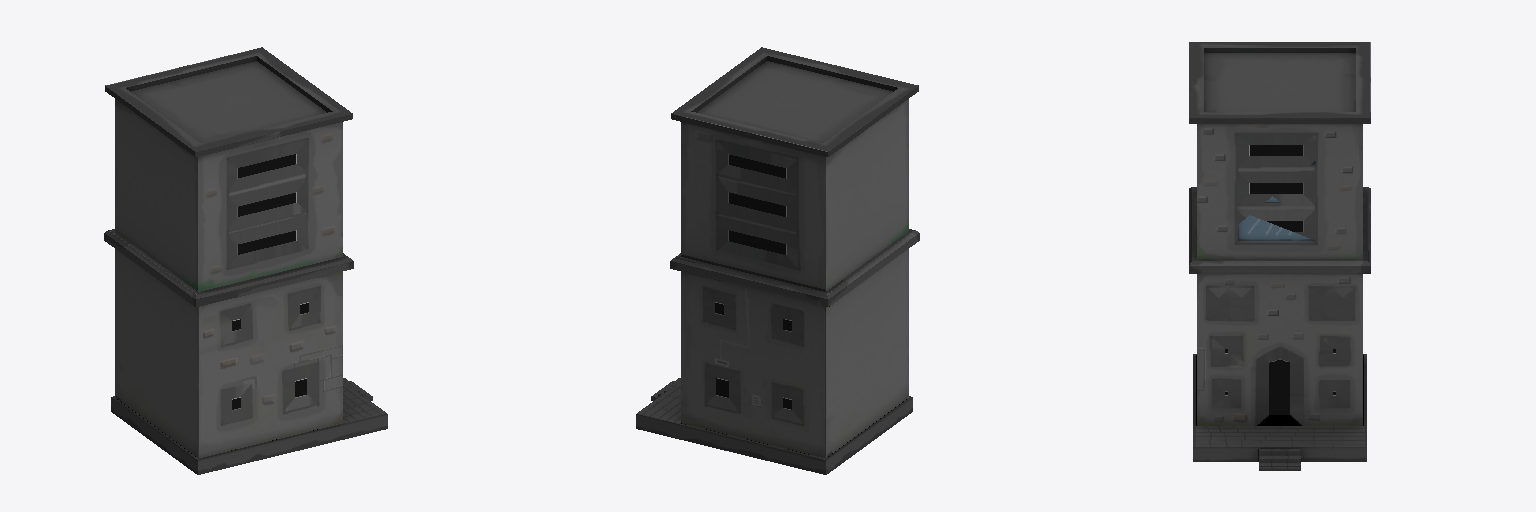
The picture shows the model from 3 angles: view 1: azimuth 30°, elevation 25°; view 2: azimuth 150°, elevation 25°; view 3: azimuth 270°, elevation 25°; orthographic projection.
Visible parts, largest first — view 1: Cube.003_Cube.006; view 2: Cube.003_Cube.006; view 3: Cube.003_Cube.006.
Boxes of the visible parts, box(x1,y1,x2,y2) form: Cube.003_Cube.006: box(104, 47, 387, 474); Cube.003_Cube.006: box(636, 47, 919, 474); Cube.003_Cube.006: box(1189, 42, 1370, 470).
Size of the model in its own units: 2.93 by 4.3 by 2.19.
Materials: 1 (1 with a texture image).